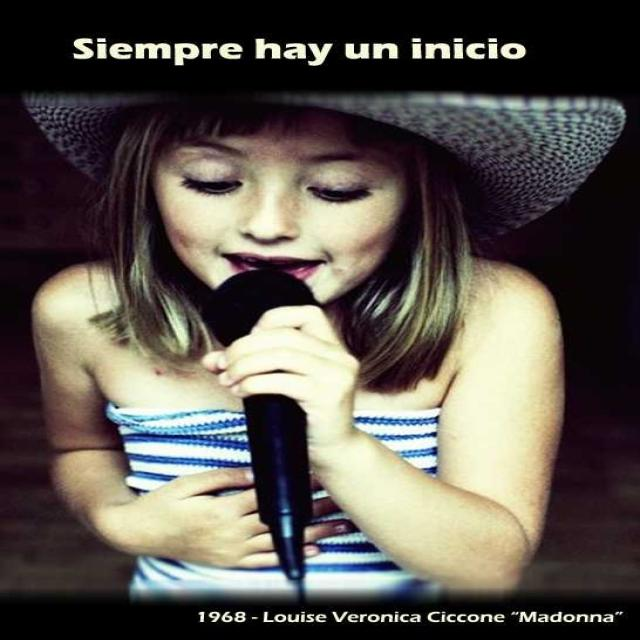microphone: (199, 266, 326, 588)
